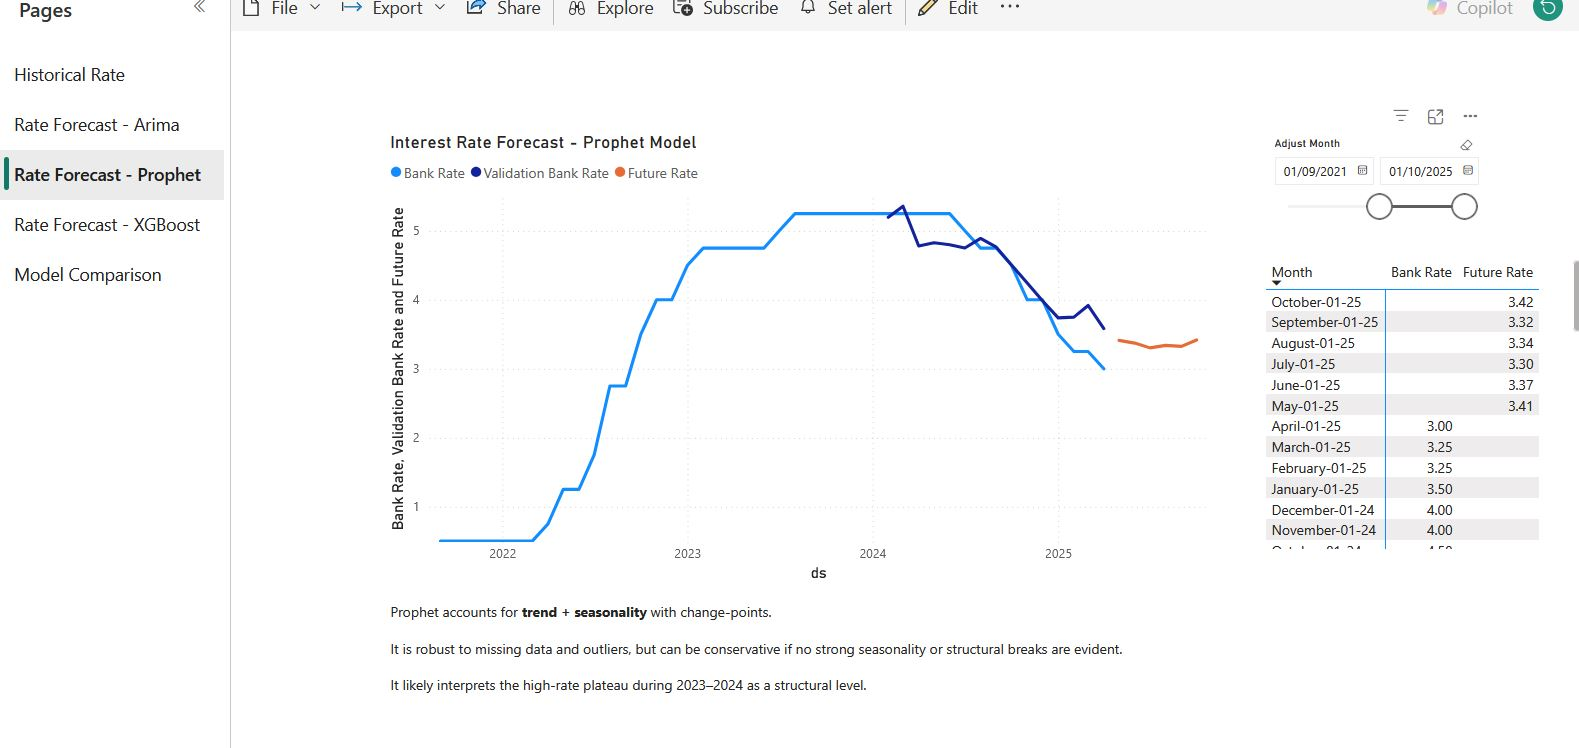

The dashboard page shown, as its layout file describes it:
{"tool":"powerbi","page":{"name":"Rate Forecast - Prophet","canvas":[1280,720],"ordinal":2},"visuals":[{"type":"lineChart","title":"Interest Rate Forecast - Prophet Model","fields":{"Category":["model_forecast_prophet.ds"],"Y":["Sum(model_forecast_prophet.y)","Sum(model_forecast_prophet.yhat_test)","Sum(model_forecast_prophet.yhat_future)"]},"box":[37,96.1,798.6,437.7],"z":0},{"type":"pivotTable","fields":{"Rows":["model_forecast_prophet.ds"],"Values":["Sum(model_forecast_prophet.y)","Sum(model_forecast_prophet.yhat_future)"]},"box":[879.6,215.4,314.2,288.2],"z":1000},{"type":"slicer","fields":{"Values":["model_forecast_prophet.ds"]},"box":[879.6,96.1,216.8,97.4],"z":2000},{"type":"textbox","box":[37,544,799,176],"z":2001}]}

Visuals, with their boxes on the page's 1280x720 design canvas (x1, y1, x2, y2). These are canvas units, not pixel positions in the 1579x748 screenshot, which may show the page scaled, cropped or inside an application window:
"Interest Rate Forecast - Prophet Model" lineChart: select_region(37, 96, 836, 534)
pivotTable - model_forecast_prophet.ds x Sum(model_forecast_prophet.y): select_region(880, 215, 1194, 504)
slicer - model_forecast_prophet.ds: select_region(880, 96, 1096, 194)
textbox: select_region(37, 544, 836, 720)
